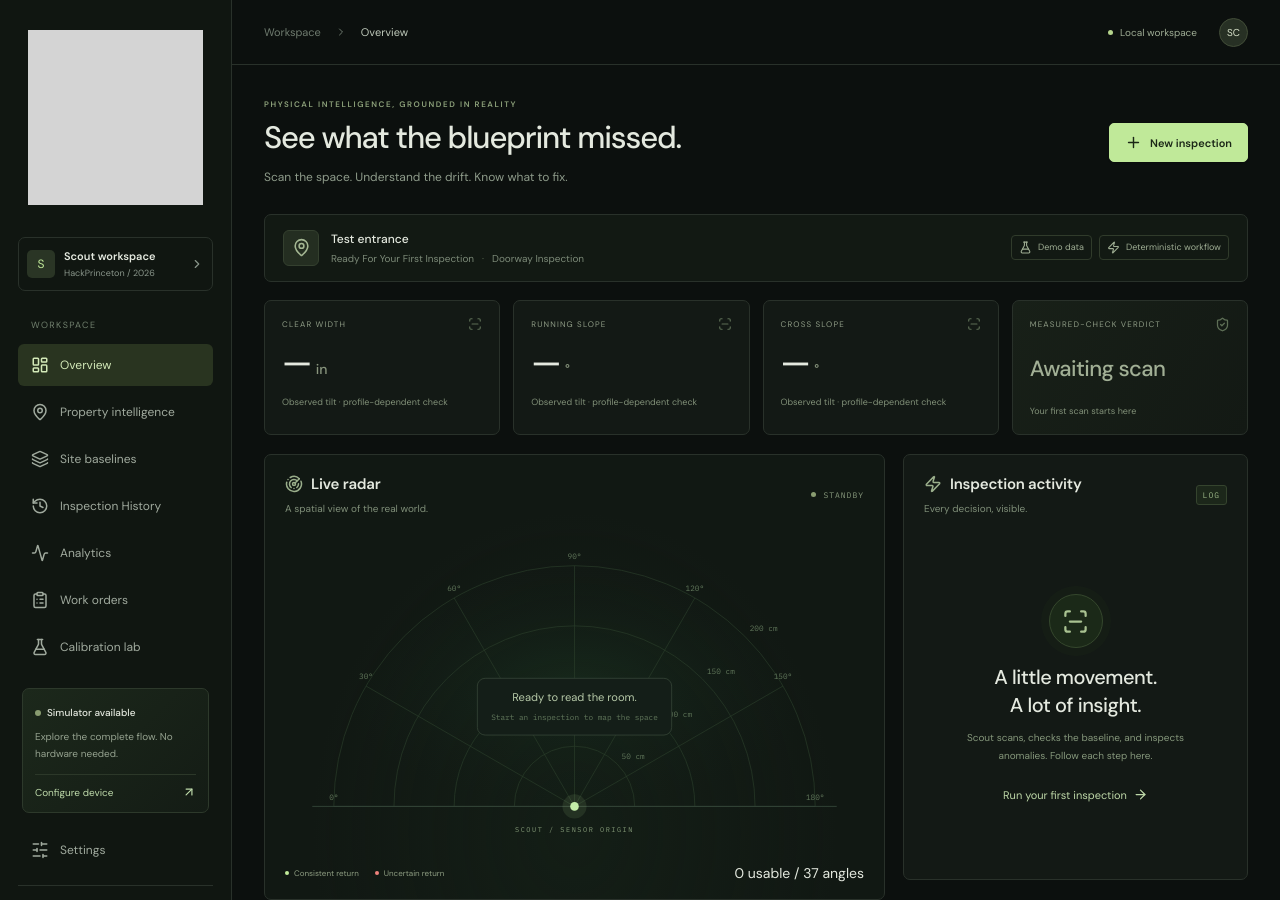
Test: Inspection workspace › streams measurements, handles completion, and retains the result
Expected: the heading "See what the blueprint missed." is shown, [264,119,681,158]
Step 1. Click the button "New inspection" → (1179, 143), box [1109,124,1248,162]
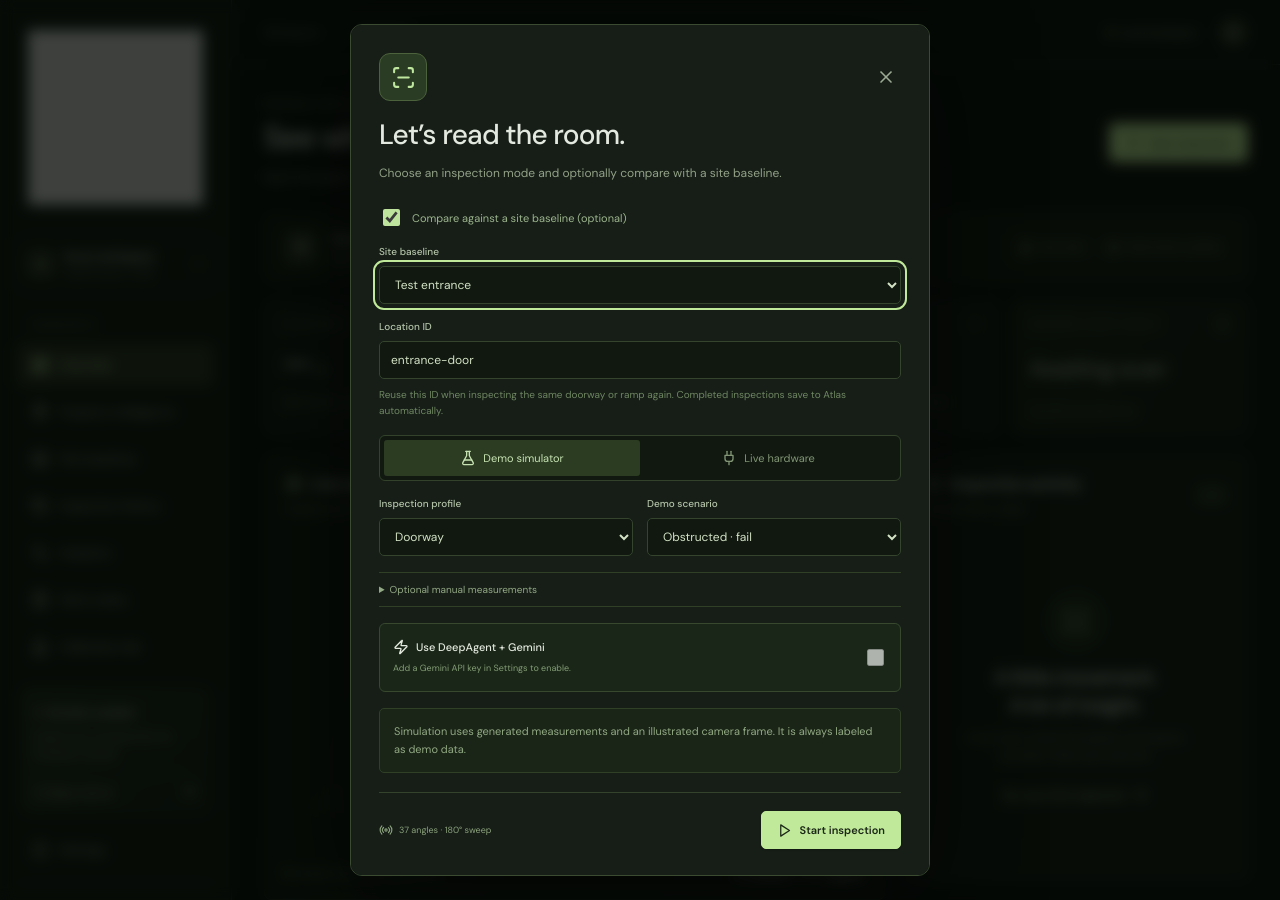
Step 2. Click the button "Start inspection" → (831, 830), box [761,811,901,849]
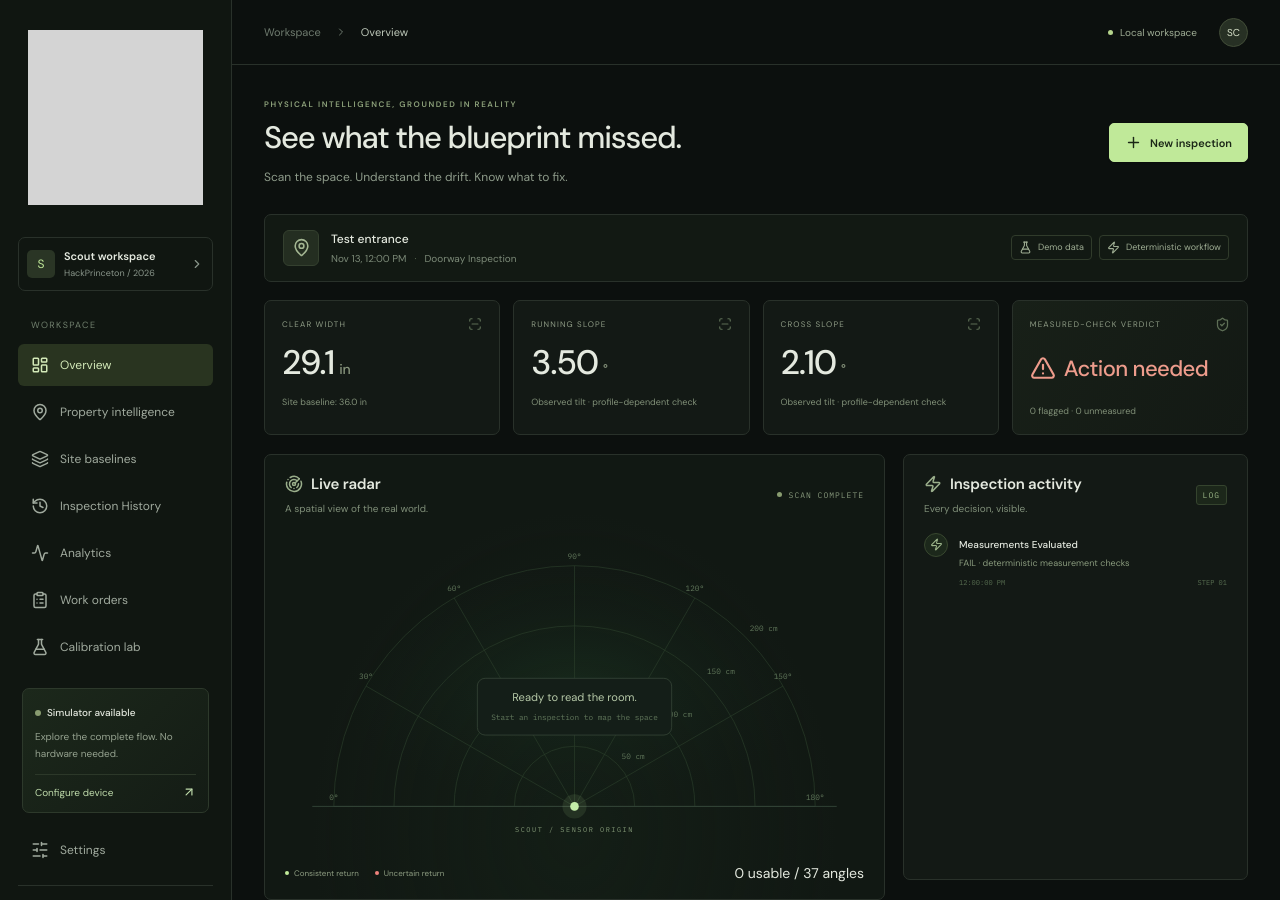
Expected: the picture named "1 measured angles" is shown, [265,527,884,849]
Result: the text "29.1" is shown at [282,340,334,385]
Result: the text "Action needed" is shown at [1030,354,1230,383]
